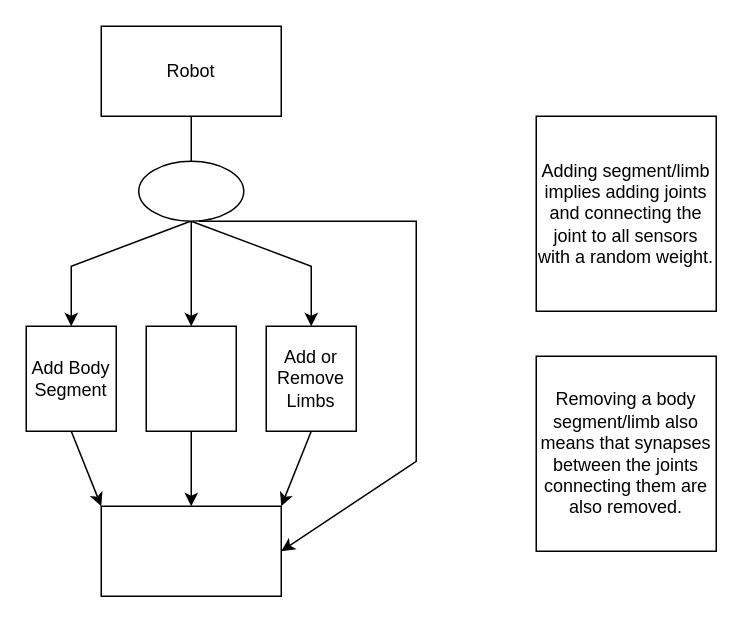
The diagram is 743 pixels wide and 623 high, and some of its shapes have lost their labels. The shapes that lost their labels are listed below. From the top down, each one's box as (x1, y1, x2, y2) in pixels, then its label:
(137, 160, 244, 221): Mutate
(145, 325, 236, 431): Remove Body Segment
(100, 505, 281, 596): Change Random Synapse Weight
